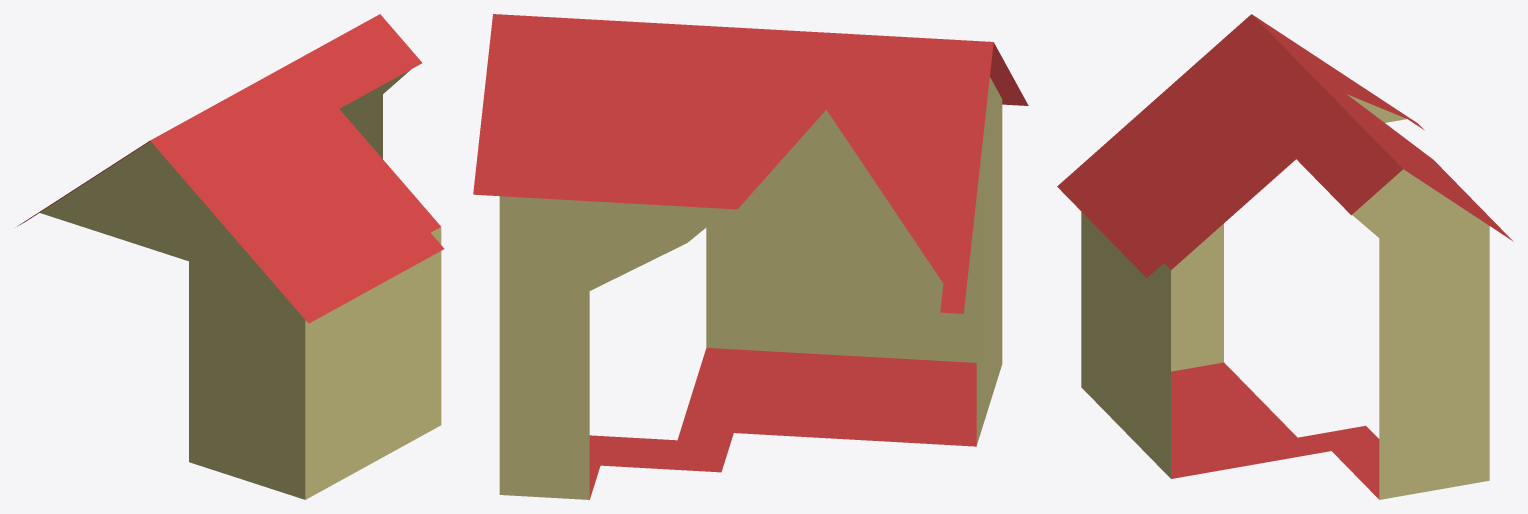
3 renders of one model, left to right at view 1: azimuth 30°, elevation 25°; view 2: azimuth 150°, elevation 25°; view 3: azimuth 270°, elevation 25°, orthographic. The views are drawn at different scales.
Size of the model in its own units: 18.42 by 18.39 by 14.88.
